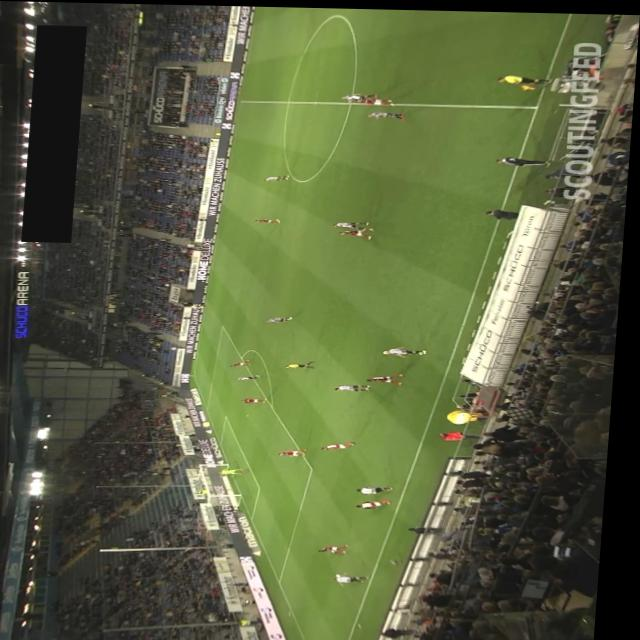goalkeeper: (225, 466, 251, 473)
player: (388, 344, 432, 355), (372, 371, 409, 384), (340, 572, 379, 584), (343, 224, 379, 237), (362, 496, 399, 506), (343, 90, 379, 100), (369, 109, 407, 118), (327, 541, 358, 552), (359, 94, 396, 103), (328, 439, 363, 448), (363, 484, 400, 492), (335, 219, 373, 226), (340, 382, 377, 389), (284, 446, 314, 454), (266, 172, 293, 180), (235, 356, 257, 365), (270, 314, 298, 321), (246, 396, 274, 402), (240, 373, 265, 379), (257, 217, 284, 221)
referee: (497, 72, 553, 87), (290, 358, 321, 366), (193, 302, 211, 306)
